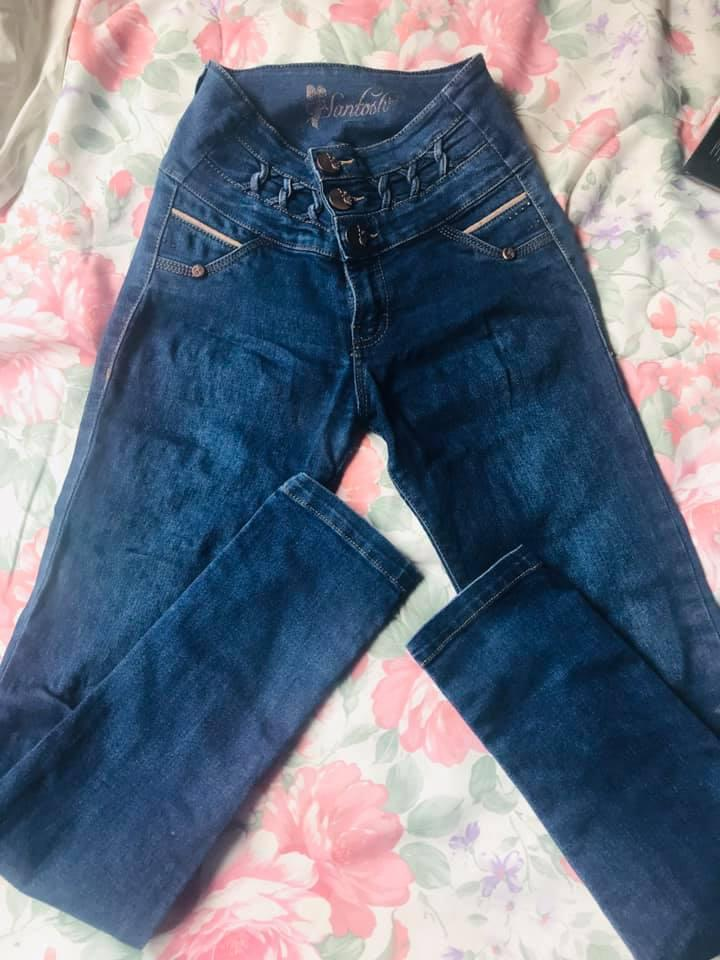Jeans: (0, 42, 720, 960)
